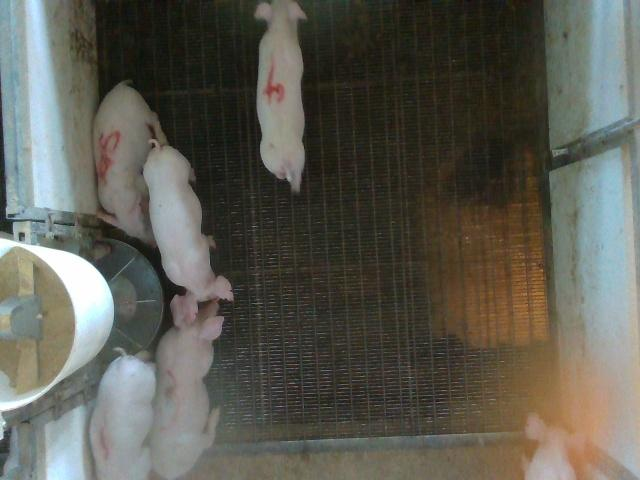pig-1: (89, 350, 156, 479)
pig-3: (149, 292, 224, 478)
pig-4: (255, 0, 306, 192)
pig-5: (92, 80, 168, 246)
